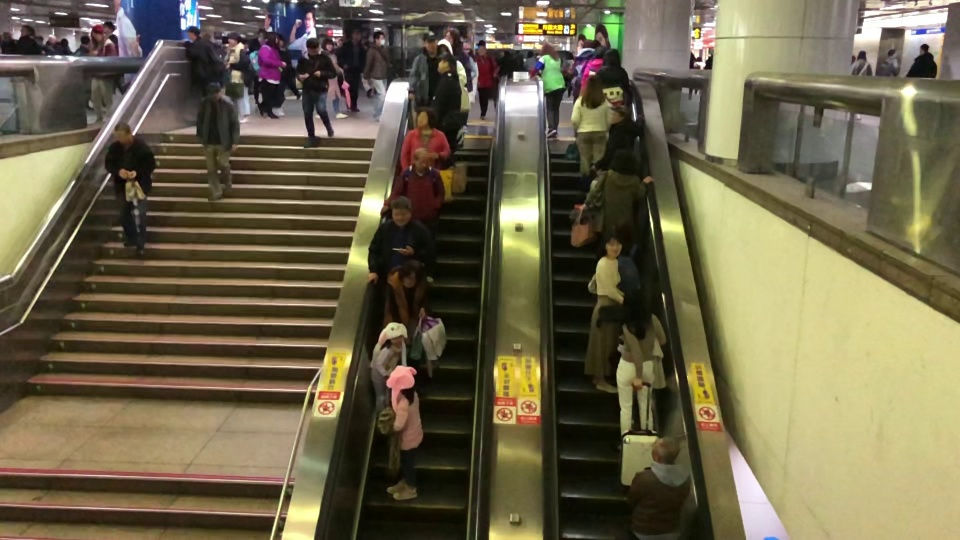person_head: (622, 279, 651, 312), (397, 260, 427, 287), (651, 435, 682, 460), (388, 195, 413, 224), (612, 149, 638, 174), (601, 226, 621, 255), (411, 147, 431, 169), (392, 370, 413, 389), (112, 121, 131, 141), (415, 107, 436, 125), (436, 55, 456, 72), (603, 48, 620, 65), (585, 74, 601, 92), (305, 36, 320, 53), (207, 82, 221, 100), (186, 25, 201, 40), (372, 30, 386, 46), (424, 34, 437, 50), (19, 24, 35, 36), (389, 330, 403, 343), (541, 40, 555, 53), (322, 37, 334, 52), (103, 21, 116, 34), (266, 33, 278, 46), (446, 29, 457, 43), (91, 26, 102, 39), (228, 32, 239, 45), (351, 29, 362, 41), (593, 46, 605, 57), (918, 42, 929, 53), (590, 38, 602, 48), (478, 40, 486, 53), (887, 47, 897, 57), (81, 34, 90, 45), (857, 49, 868, 58), (581, 39, 591, 47), (47, 34, 57, 41), (502, 49, 510, 55), (527, 49, 533, 57)
person_vbox: (378, 147, 444, 283), (614, 278, 669, 436), (104, 121, 156, 258), (626, 435, 692, 540), (366, 194, 438, 285), (584, 148, 654, 241), (584, 225, 621, 393), (375, 259, 427, 370), (383, 369, 425, 502), (195, 82, 241, 203), (570, 74, 623, 176), (295, 36, 337, 150), (400, 108, 452, 173), (181, 27, 225, 98), (370, 330, 406, 414), (535, 40, 565, 138), (89, 25, 118, 123), (315, 38, 349, 117), (362, 29, 390, 122), (227, 33, 255, 124), (257, 33, 286, 120), (405, 32, 438, 104), (340, 29, 366, 113), (596, 48, 630, 107), (473, 38, 497, 119), (572, 38, 603, 100), (432, 56, 461, 113), (851, 49, 873, 119), (73, 33, 91, 111), (579, 46, 605, 94), (904, 43, 938, 79), (445, 29, 469, 66), (17, 25, 43, 55), (877, 47, 900, 78), (498, 50, 517, 74), (524, 48, 537, 71), (44, 34, 59, 53)
